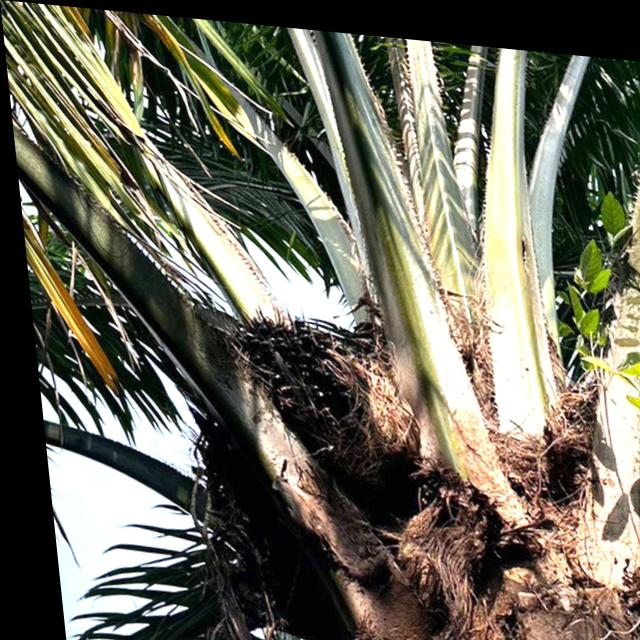almost: (218, 296, 427, 483)
